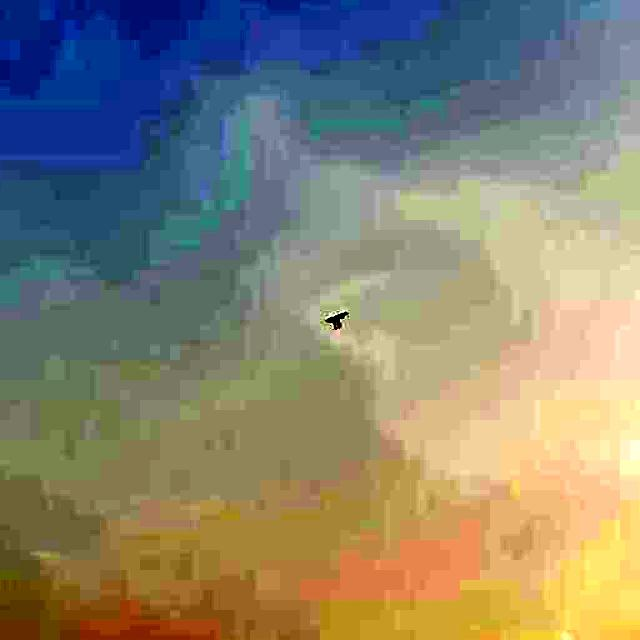bird: (324, 308, 349, 335)
